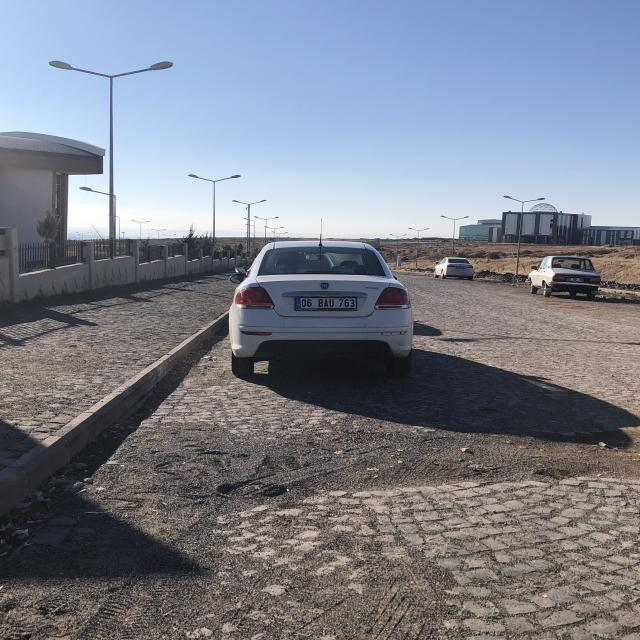license_plate: (295, 297, 357, 309)
